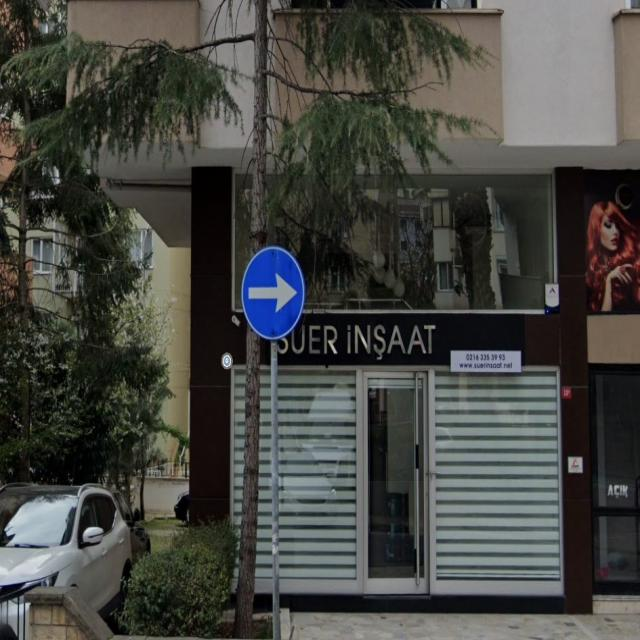Turn Right: (242, 243, 306, 343)
